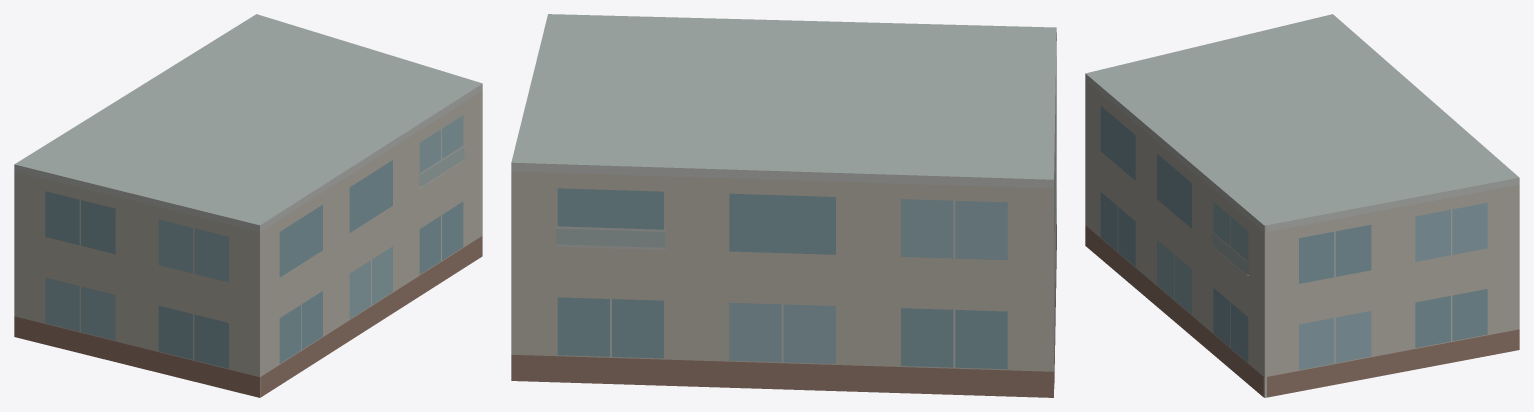
The model's file is survey-upis-32943810.glb.
3 renders of one model, left to right at view 1: azimuth 30°, elevation 25°; view 2: azimuth 150°, elevation 25°; view 3: azimuth 270°, elevation 25°, orthographic. The views are drawn at different scales.
Parts seen in each view (by area): view 1: survey-upis-32943810.tmp; view 2: survey-upis-32943810.tmp; view 3: survey-upis-32943810.tmp.
Boxes of the visible parts, bbox=[...] form: survey-upis-32943810.tmp: bbox=[14, 14, 482, 397]; survey-upis-32943810.tmp: bbox=[511, 14, 1056, 397]; survey-upis-32943810.tmp: bbox=[1085, 14, 1519, 397].
Size of the model in its own units: 16.08 by 6.1 by 13.95.
